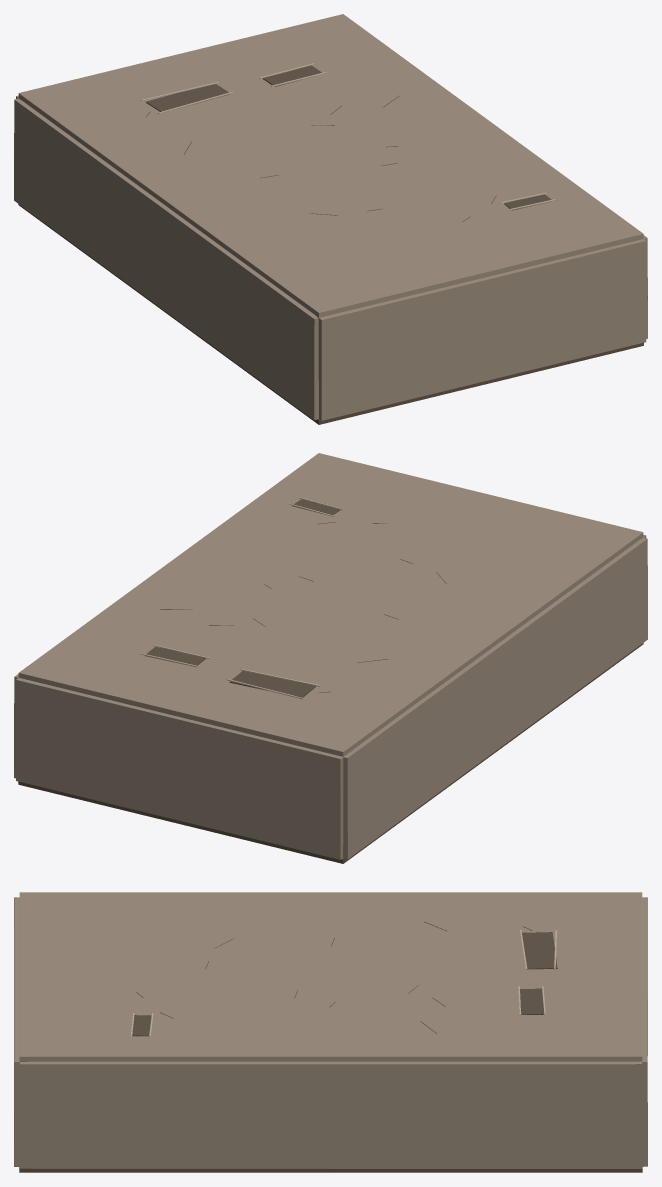
Rendered from gf_entrance_hall.glb.
The picture shows the model from 3 angles, top to bottom: view 1: azimuth 30°, elevation 25°; view 2: azimuth 150°, elevation 25°; view 3: azimuth 270°, elevation 25°; orthographic projection. The views are drawn at different scales.
Parts seen in each view (by area): view 1: Mesh_ClayWall_GF_EntranceHall_LowCeiling, Wall_GF_EntranceHall_South, Wall_GF_EntranceHall_West, Mesh_ClayStone_GF_EntranceHall_FloorBoards, Mesh_ClayCeilingMissingPatch_GF_EntranceHall_0; view 2: Mesh_ClayWall_GF_EntranceHall_LowCeiling, Wall_GF_EntranceHall_North, Wall_GF_EntranceHall_West, Mesh_ClayStone_GF_EntranceHall_FloorBoards, Mesh_ClayCeilingMissingPatch_GF_EntranceHall_0; view 3: Mesh_ClayWall_GF_EntranceHall_LowCeiling, Wall_GF_EntranceHall_East, Mesh_ClayStone_GF_EntranceHall_FloorBoards, Wall_GF_EntranceHall_North, Wall_GF_EntranceHall_South, Mesh_ClayCeilingMissingPatch_GF_EntranceHall_0, Mesh_ClayCeilingMissingPatch_GF_EntranceHall_1.
Part boxes in pixels (x1,y1,x2,y2): Mesh_ClayWall_GF_EntranceHall_LowCeiling: (18, 14, 643, 317); Wall_GF_EntranceHall_South: (316, 239, 646, 420); Wall_GF_EntranceHall_West: (14, 98, 318, 420); Mesh_ClayStone_GF_EntranceHall_FloorBoards: (18, 204, 643, 424); Mesh_ClayCeilingMissingPatch_GF_EntranceHall_0: (146, 84, 229, 111); Mesh_ClayWall_GF_EntranceHall_LowCeiling: (18, 453, 643, 756); Wall_GF_EntranceHall_North: (16, 678, 344, 859); Wall_GF_EntranceHall_West: (343, 537, 647, 859); Mesh_ClayStone_GF_EntranceHall_FloorBoards: (18, 643, 643, 863); Mesh_ClayCeilingMissingPatch_GF_EntranceHall_0: (229, 671, 315, 697); Mesh_ClayWall_GF_EntranceHall_LowCeiling: (19, 892, 642, 1061); Wall_GF_EntranceHall_East: (20, 1061, 642, 1168); Mesh_ClayStone_GF_EntranceHall_FloorBoards: (19, 1167, 642, 1172); Wall_GF_EntranceHall_North: (638, 897, 647, 1166); Wall_GF_EntranceHall_South: (14, 897, 19, 1166); Mesh_ClayCeilingMissingPatch_GF_EntranceHall_0: (522, 932, 557, 969); Mesh_ClayCeilingMissingPatch_GF_EntranceHall_1: (520, 988, 544, 1014).
Size of the model in its own units: 10.25 by 3.44 by 16.26.
